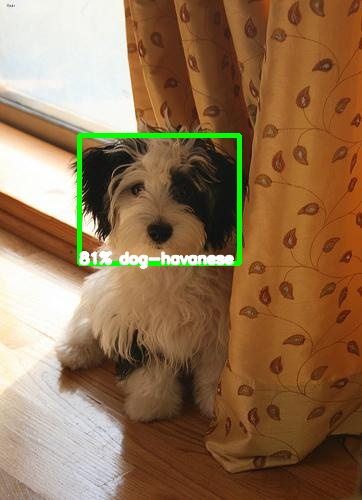dog-havanese: (80, 133, 245, 263)
